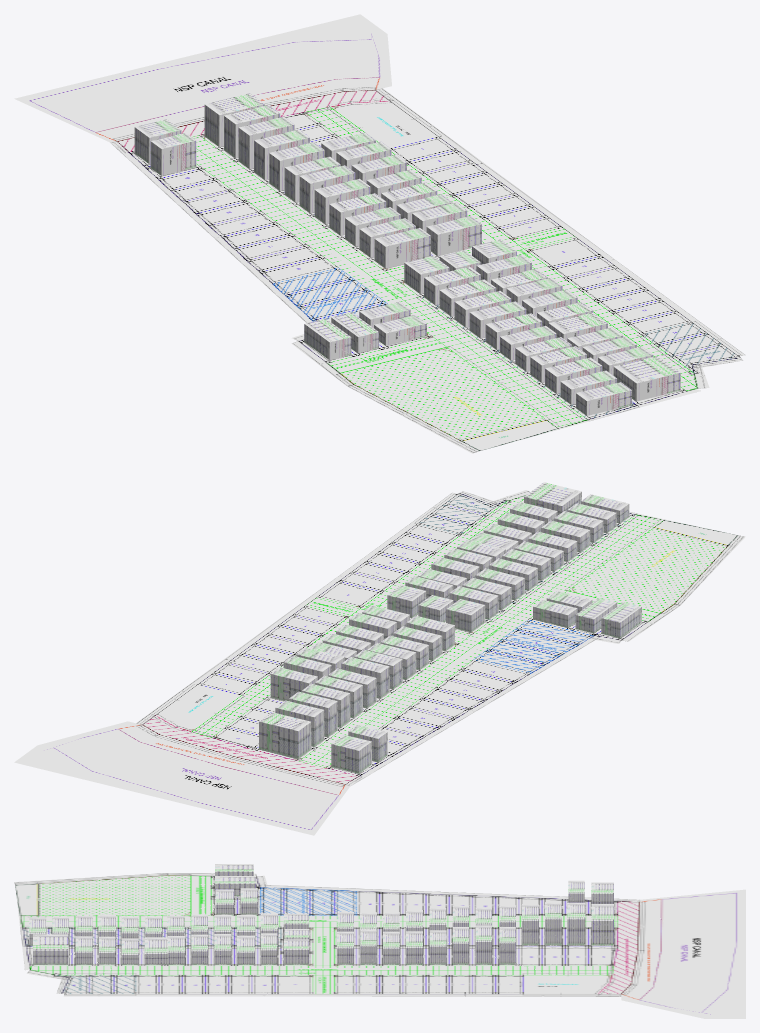
The model's file is The_plan.glb.
3 renders of one model, top to bottom at view 1: azimuth 30°, elevation 25°; view 2: azimuth 150°, elevation 25°; view 3: azimuth 270°, elevation 25°, orthographic. The views are drawn at different scales.
Visible parts, largest first — view 1: Cube.011; view 2: Cube.011; view 3: Cube.011.
Boxes of the visible parts, box(x1,y1,x2,y2) form: Cube.011: box(14, 14, 745, 453); Cube.011: box(14, 482, 745, 835); Cube.011: box(14, 864, 745, 1018).
Size of the model in its own units: 12.04 by 1.01 by 25.5.
1 material, 1 textured.
